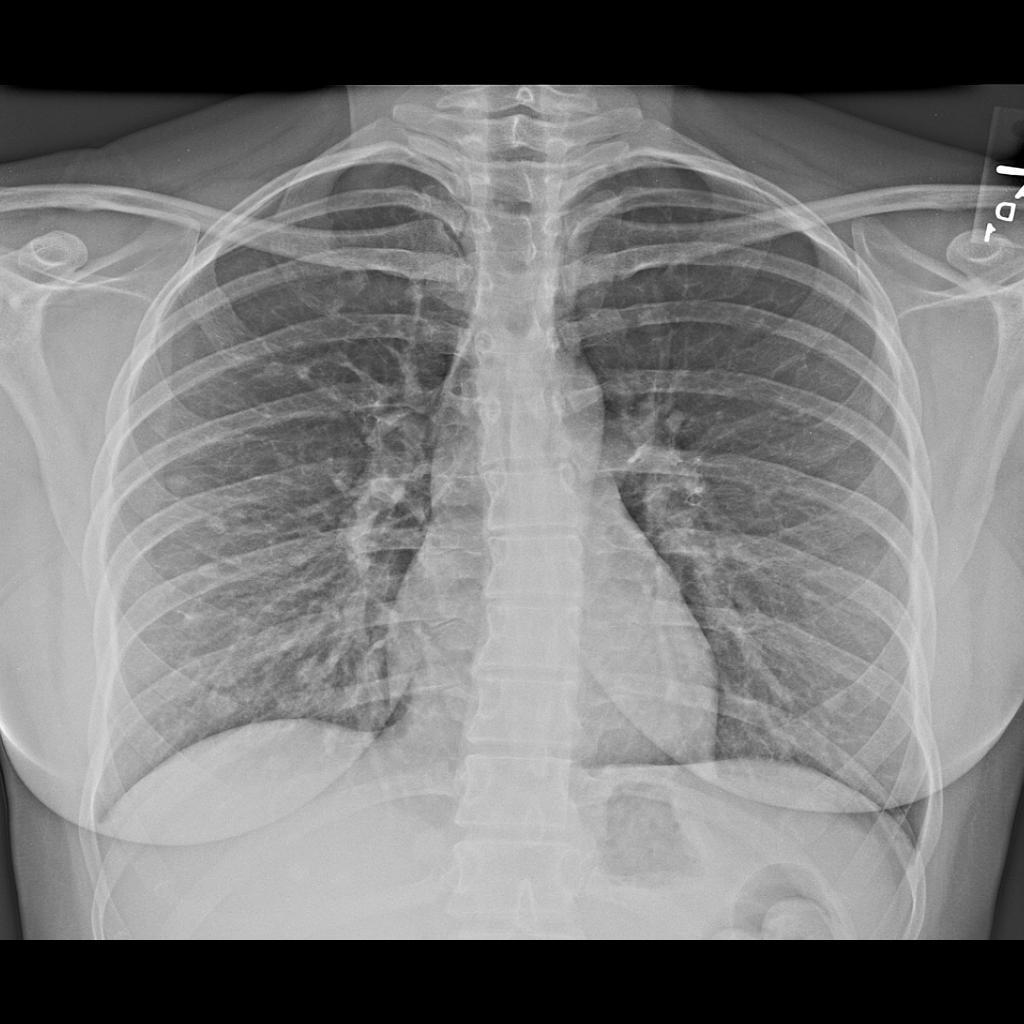Nodule: (199, 685, 252, 732), (287, 647, 332, 697), (170, 475, 200, 506)
